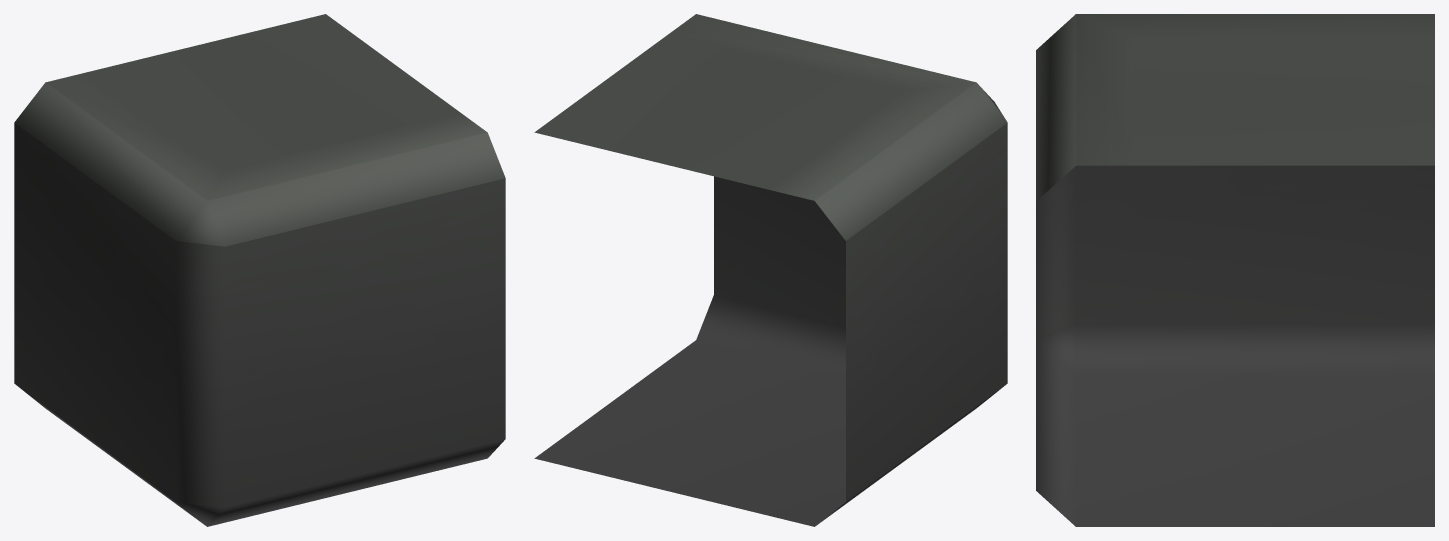
The model's file is island_corner_convex.fbx.
The picture shows the model from 3 angles, left to right: view 1: azimuth 30°, elevation 25°; view 2: azimuth 150°, elevation 25°; view 3: azimuth 270°, elevation 25°; orthographic projection. The views are drawn at different scales.
Parts seen in each view (by area): view 1: island_corner_convex; view 2: island_corner_convex; view 3: island_corner_convex.
Part boxes in pixels (x1,y1,x2,y2): island_corner_convex: [14, 14, 505, 526]; island_corner_convex: [534, 14, 1007, 526]; island_corner_convex: [1036, 14, 1434, 526].
Bounding box in the file's own units: 200 × 200 × 200.
Materials: 1 (1 with a texture image).
